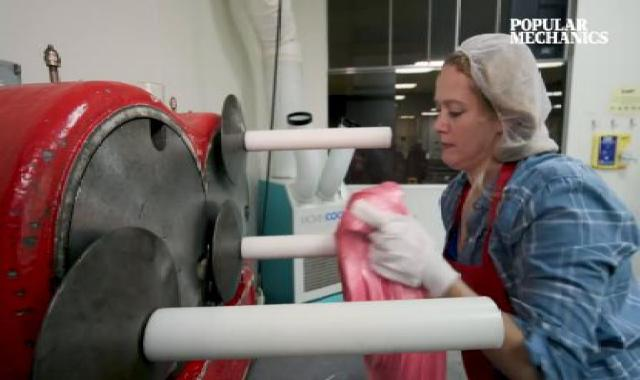hairnet: (442, 28, 574, 161)
